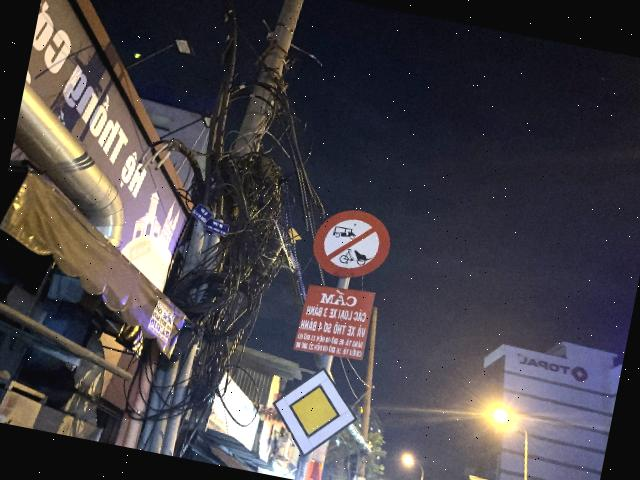bat-dau-duong-uu-tien: (262, 357, 367, 467)
cam-xe-3-banh-xe-tho-so-4-banh: (306, 201, 396, 285)
